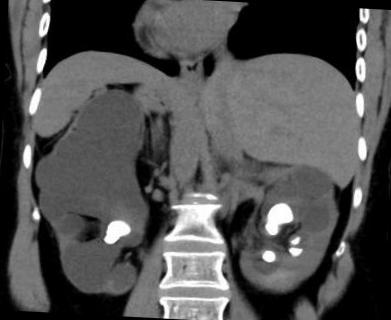Tas_Var: (260, 199, 294, 239), (102, 212, 132, 252), (260, 246, 278, 268), (284, 246, 306, 259), (288, 234, 302, 248)
